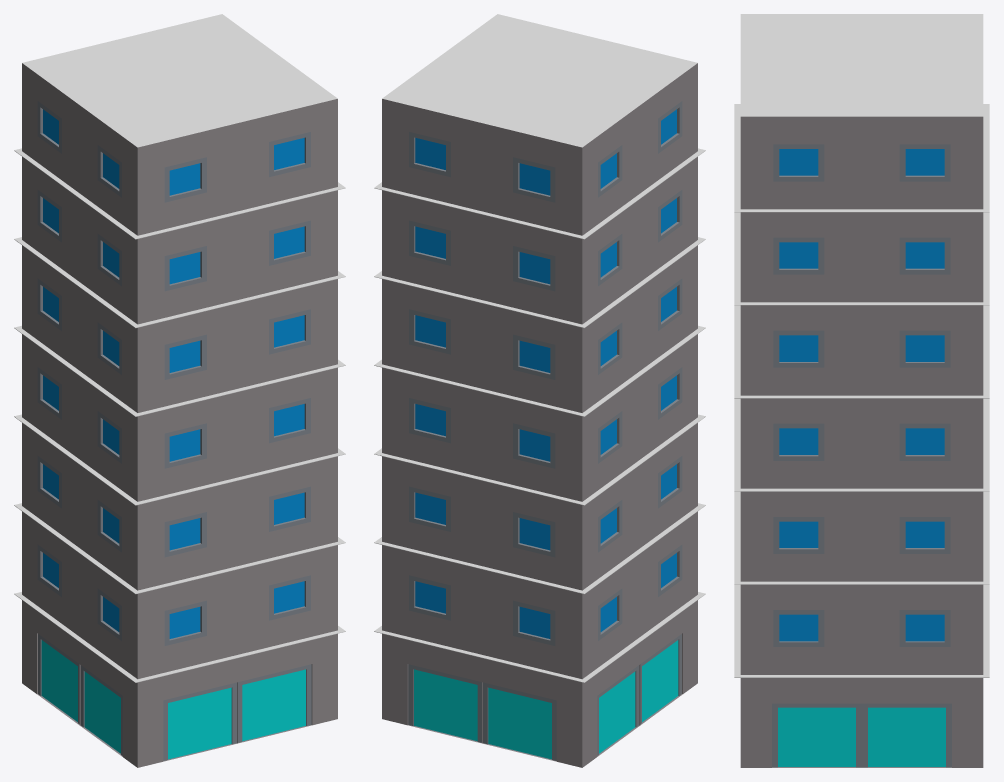
The model's file is building1.fbx.
3 renders of one model, left to right at view 1: azimuth 30°, elevation 25°; view 2: azimuth 150°, elevation 25°; view 3: azimuth 270°, elevation 25°, orthographic. The views are drawn at different scales.
Parts seen in each view (by area): view 1: building_001; view 2: building_001; view 3: building_001.
Boxes of the visible parts, box(x1,y1,x2,y2) form: building_001: box(14, 14, 345, 767); building_001: box(374, 14, 705, 767); building_001: box(734, 14, 989, 767).
Size of the model in its own units: 5.4 by 15.2 by 5.4.
